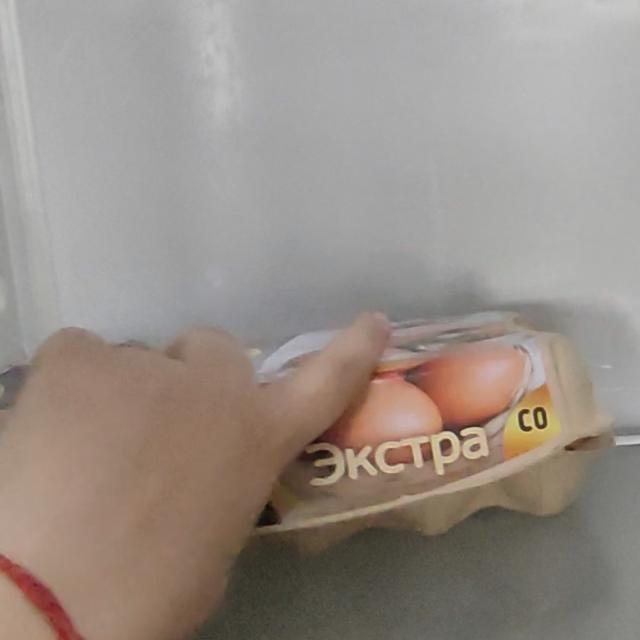egg: (0, 283, 590, 604)
